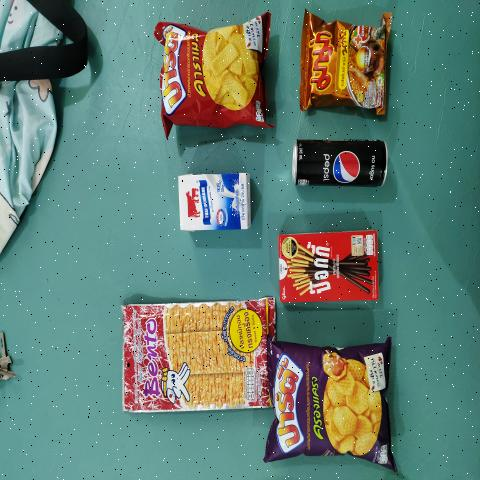bento_red: (126, 303, 271, 407)
mama: (306, 30, 382, 108)
party_purple: (272, 353, 390, 460)
party_red: (163, 31, 258, 121)
pepsi_black: (294, 137, 386, 191)
pokki: (280, 233, 377, 301)
thai_denmark: (176, 171, 250, 234)
